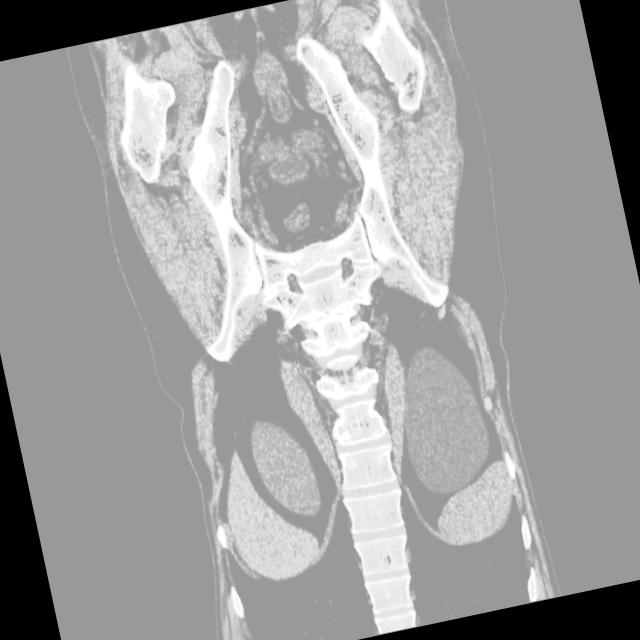cysts: (69, 0, 573, 640)
